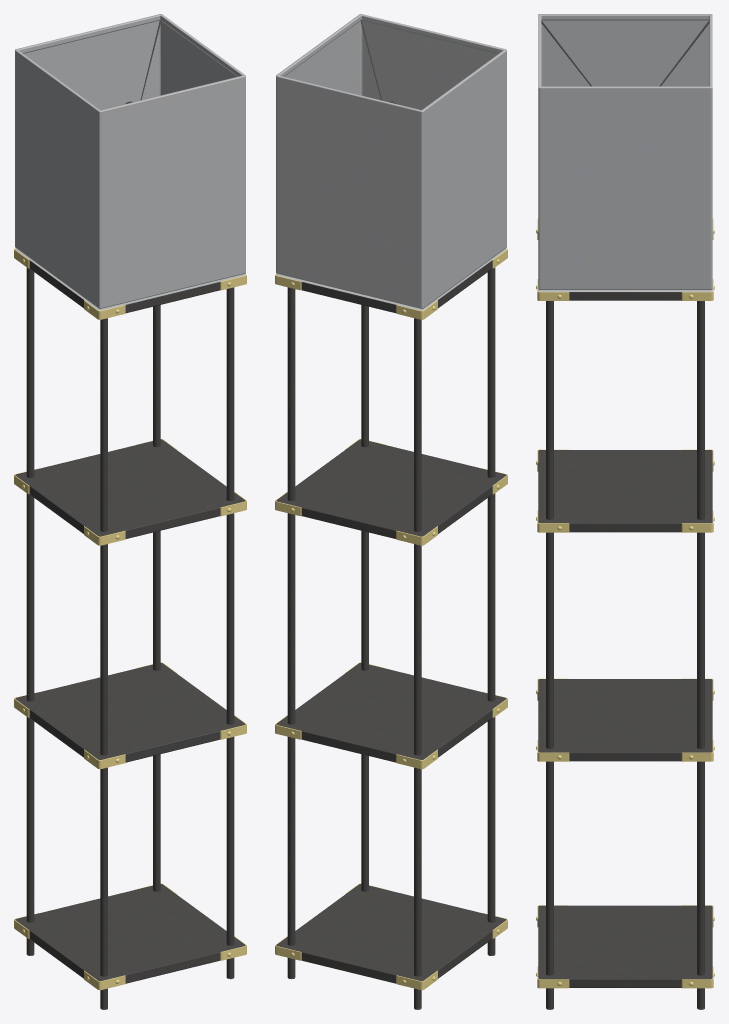
The model's file is abo-B07MBFDWY5.glb.
3 views of the same model, side by side, from view 1: azimuth 30°, elevation 25°; view 2: azimuth 150°, elevation 25°; view 3: azimuth 270°, elevation 25° (orthographic). The views are drawn at different scales.
Bounding box in the file's own units: 0.279 × 1.59 × 0.279.
Materials: 1 (1 with a texture image).
